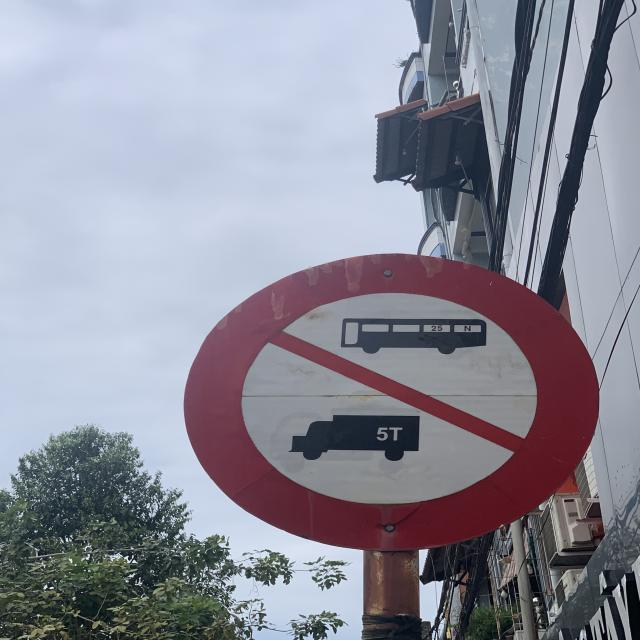Cam_XeTai_XeKhach: (184, 252, 600, 550)
